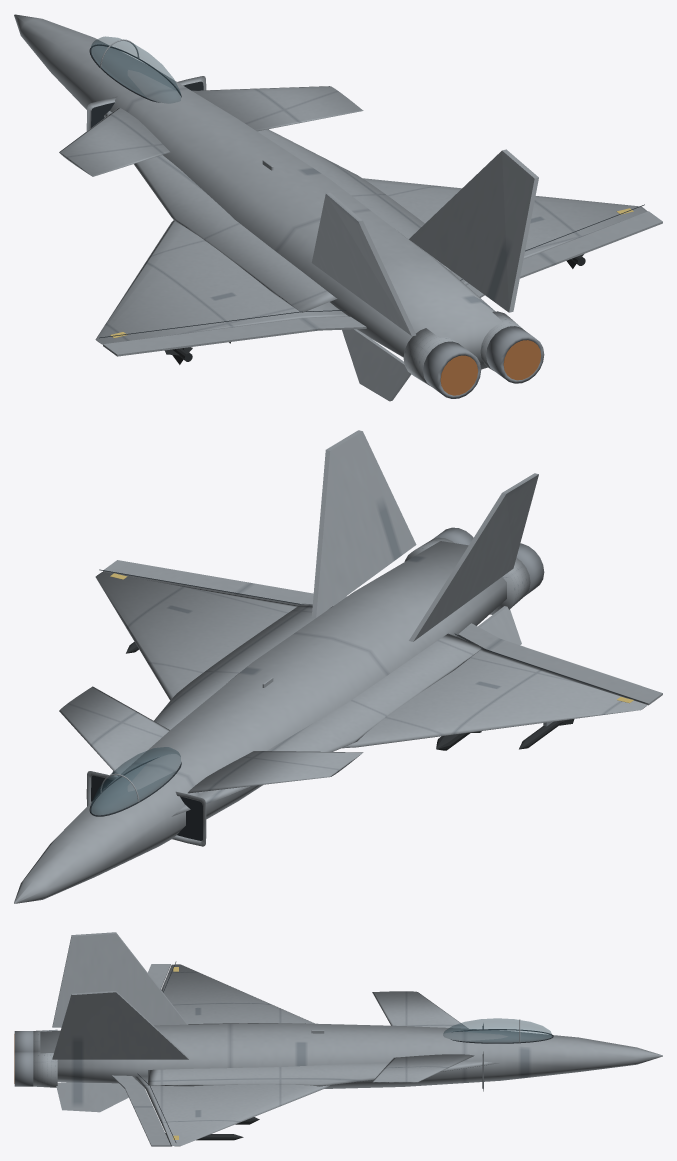
Rendered from wings_j20.glb.
3 renders of one model, top to bottom at view 1: azimuth 30°, elevation 25°; view 2: azimuth 150°, elevation 25°; view 3: azimuth 270°, elevation 25°, orthographic. The views are drawn at different scales.
Visible parts, largest first — view 1: airframe_static, vertical_stabilizer_2, vertical_stabilizer_1, canard_R, canard_L, elevon_L, canopy, elevon_R, exhaust_core_L, exhaust_core_R; view 2: airframe_static, vertical_stabilizer_2, vertical_stabilizer_1, canard_R, canard_L, canopy, elevon_L, elevon_R; view 3: airframe_static, vertical_stabilizer_2, vertical_stabilizer_1, canopy, canard_L, canard_R, elevon_R, elevon_L.
Part boxes in pixels (left/top/right/bottom): airframe_static: left=14, top=14, right=647, bottom=401; vertical_stabilizer_2: left=409, top=149, right=538, bottom=312; vertical_stabilizer_1: left=311, top=192, right=415, bottom=336; canard_R: left=192, top=86, right=363, bottom=131; canard_L: left=59, top=107, right=170, bottom=176; elevon_L: left=103, top=316, right=366, bottom=356; canopy: left=89, top=36, right=181, bottom=103; elevon_R: left=466, top=211, right=662, bottom=297; exhaust_core_L: left=440, top=355, right=477, bottom=395; exhaust_core_R: left=503, top=340, right=541, bottom=380; airframe_static: left=14, top=527, right=647, bottom=903; vertical_stabilizer_2: left=311, top=430, right=416, bottom=617; vertical_stabilizer_1: left=409, top=473, right=538, bottom=641; canard_R: left=59, top=686, right=169, bottom=775; canard_L: left=188, top=751, right=363, bottom=793; canopy: left=89, top=747, right=181, bottom=816; elevon_L: left=458, top=623, right=662, bottom=705; elevon_R: left=103, top=560, right=346, bottom=605; airframe_static: left=14, top=961, right=662, bottom=1146; vertical_stabilizer_2: left=52, top=991, right=189, bottom=1059; vertical_stabilizer_1: left=52, top=932, right=187, bottom=1027; canopy: left=443, top=1018, right=553, bottom=1043; canard_L: left=372, top=991, right=468, bottom=1028; canard_R: left=372, top=1054, right=474, bottom=1082; elevon_R: left=112, top=1075, right=170, bottom=1146; elevon_L: left=148, top=964, right=170, bottom=989.
Bounding box in the file's own units: 13.5 × 4.42 × 20.41.
Materials: 7 (1 with a texture image).
